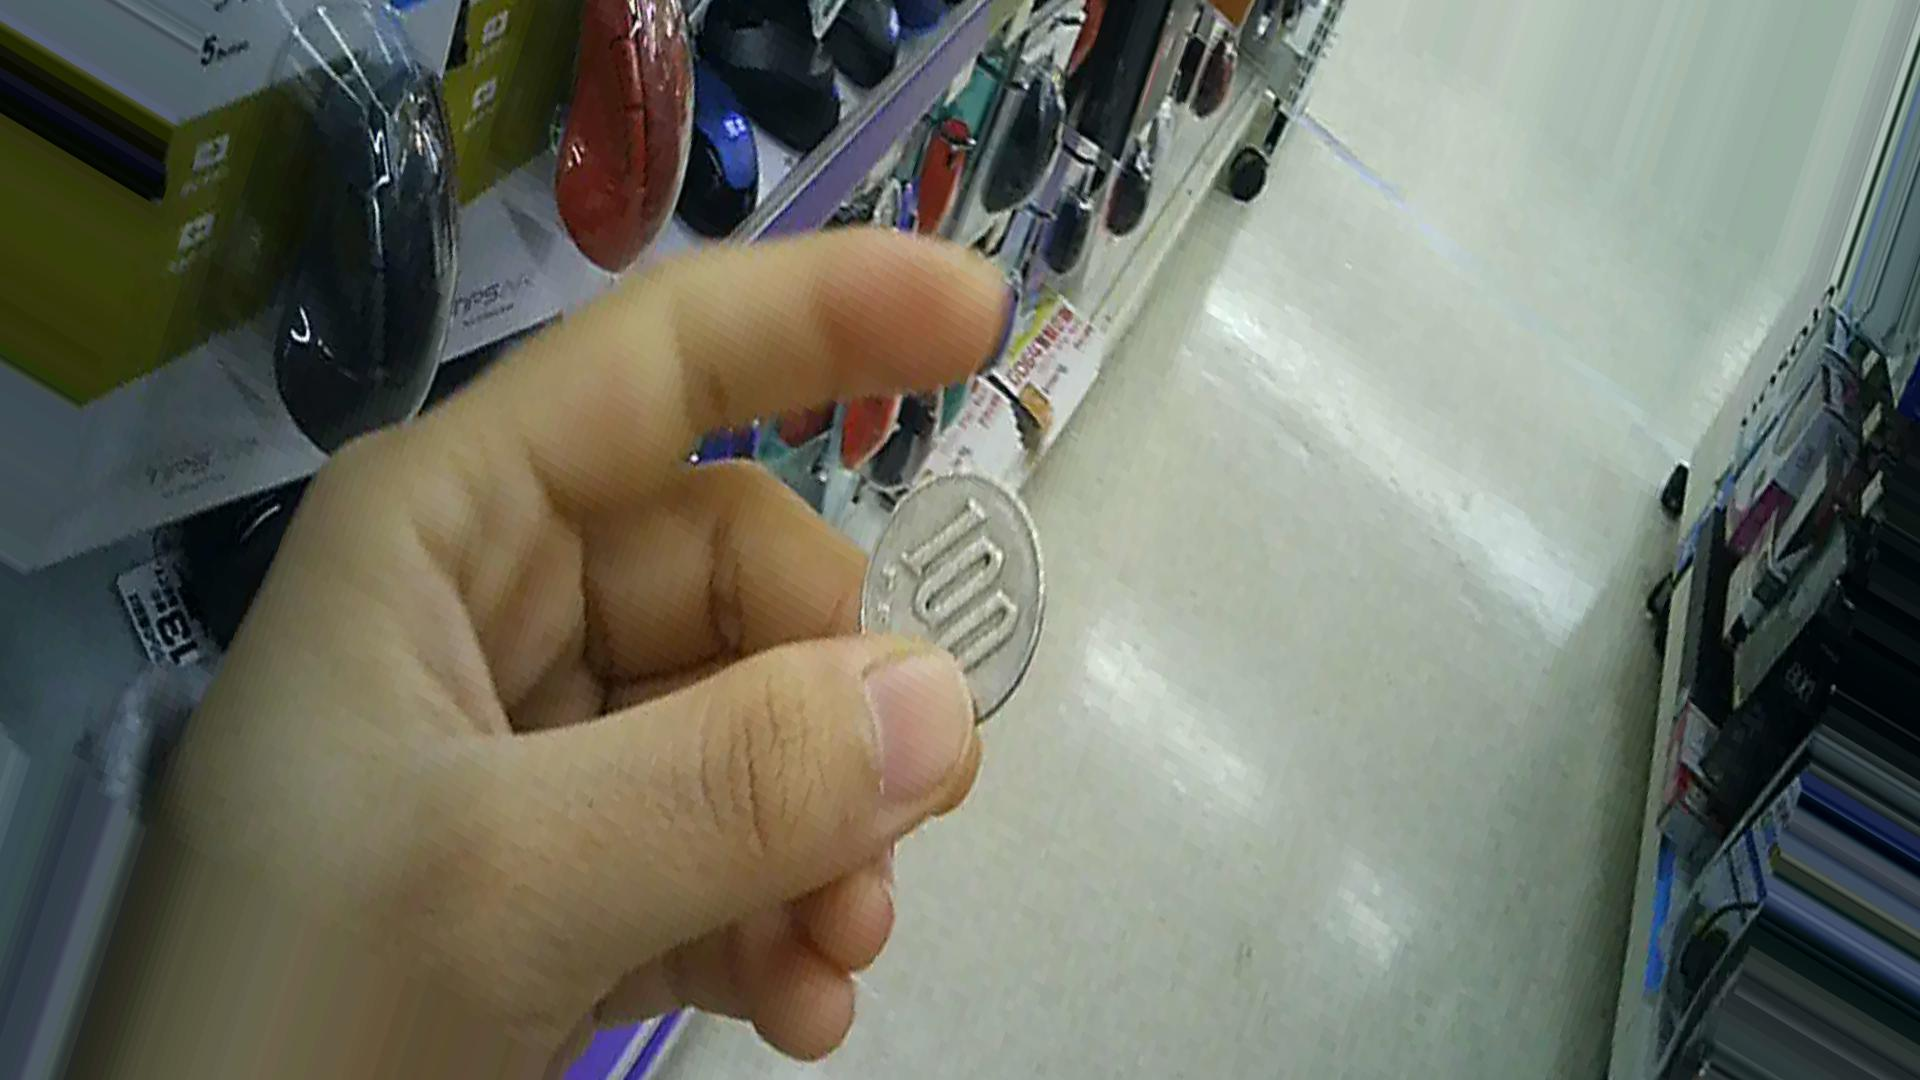100 Yen: (841, 469, 1059, 746)
